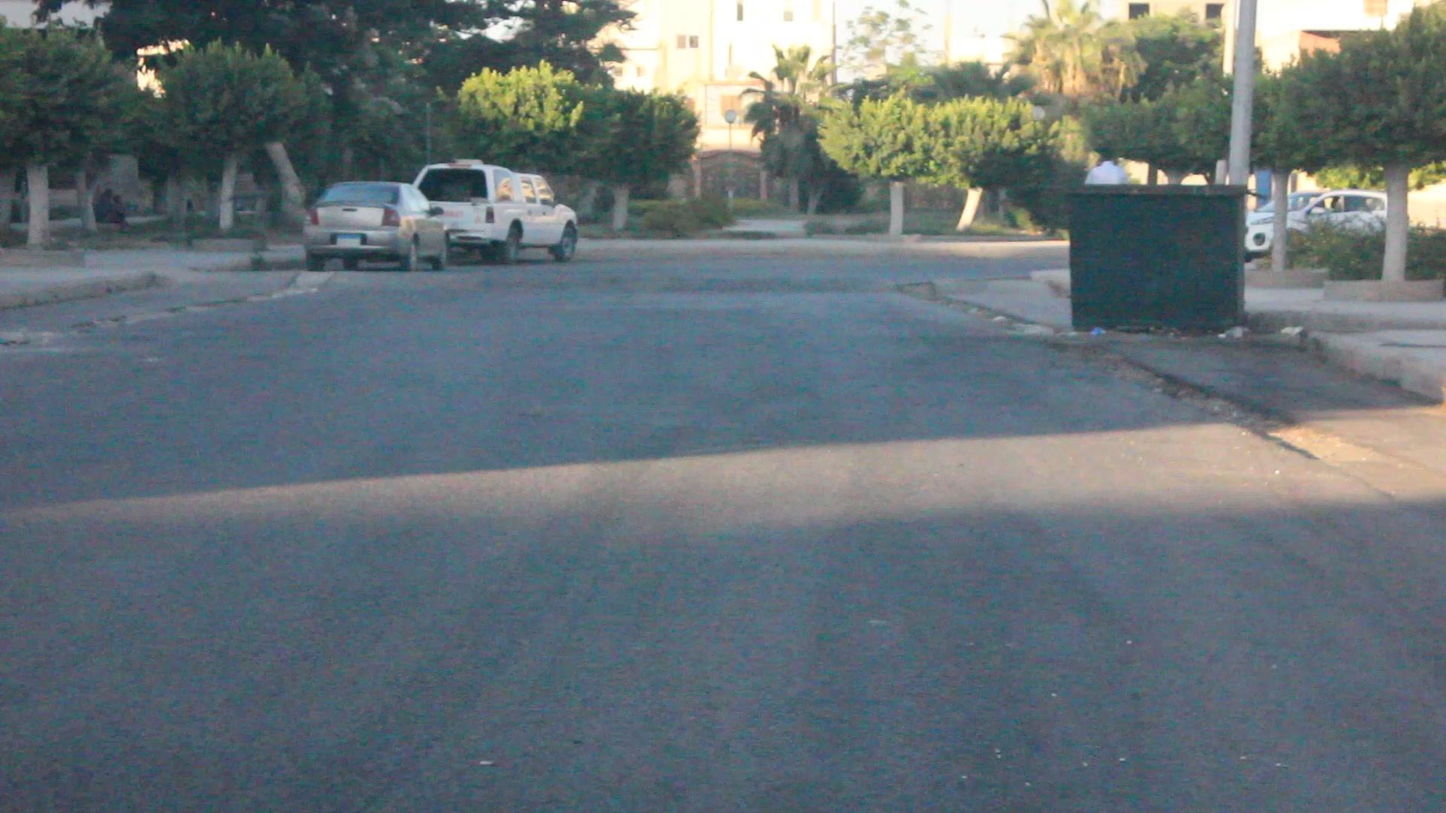Bump: (265, 260, 908, 307)
